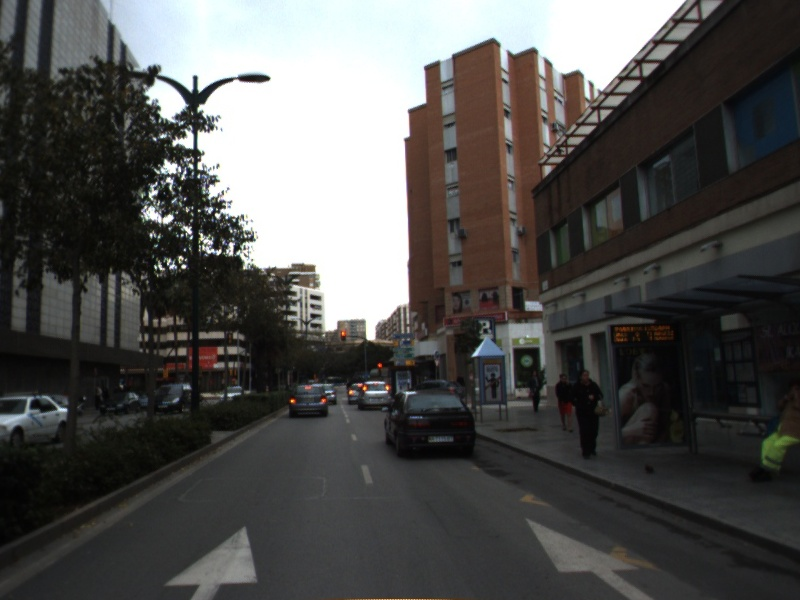STRAIGHT: (524, 516, 664, 600), (161, 521, 262, 600)
